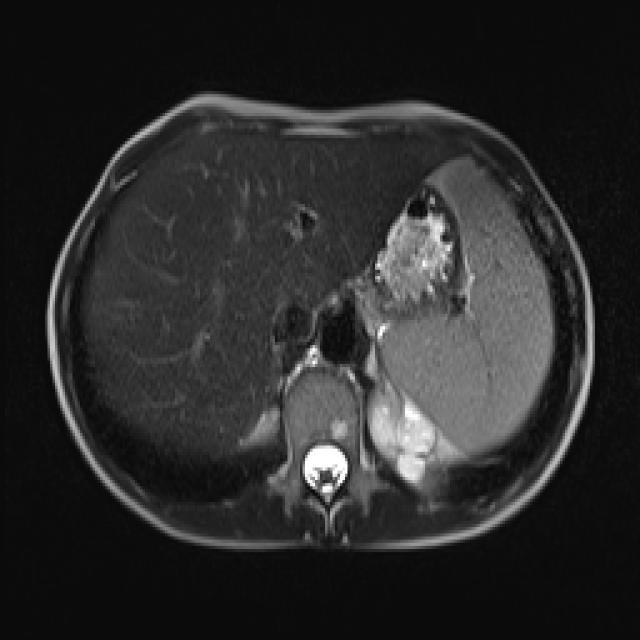sol: (371, 388, 443, 485)
